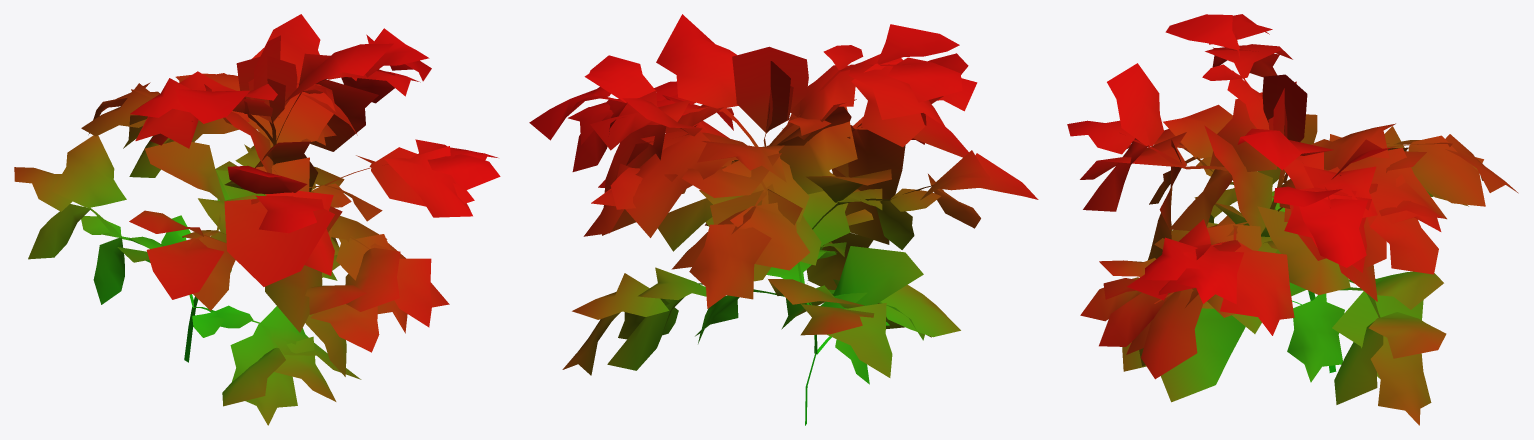
File: Var4_LOD4.fbx
3 renders of one model, left to right at view 1: azimuth 30°, elevation 25°; view 2: azimuth 150°, elevation 25°; view 3: azimuth 270°, elevation 25°, orthographic. The views are drawn at different scales.
Parts seen in each view (by area): view 1: _8ifh_Var4_LOD4; view 2: _8ifh_Var4_LOD4; view 3: _8ifh_Var4_LOD4.
Part boxes in pixels (box(x1,y1,x2,y2)): _8ifh_Var4_LOD4: box(14, 14, 500, 425); _8ifh_Var4_LOD4: box(529, 14, 1038, 425); _8ifh_Var4_LOD4: box(1067, 14, 1518, 425).
Size of the model in its own units: 101 by 84.4 by 105.
